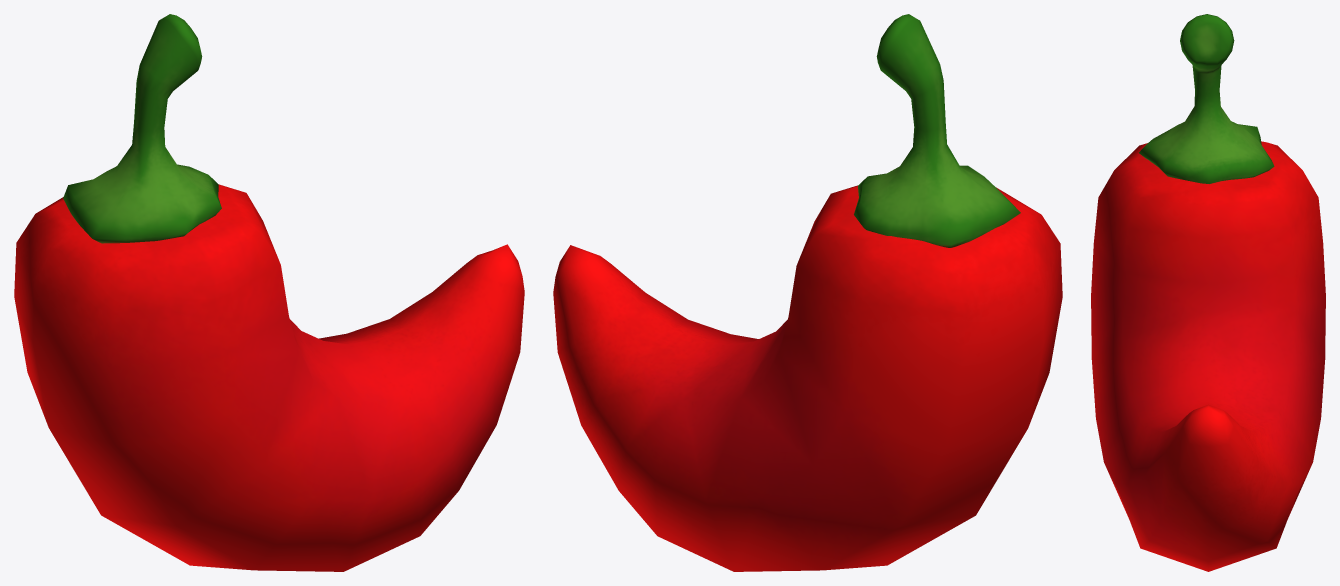
Rendered from Pepper.fbx.
The picture shows the model from 3 angles, left to right: view 1: azimuth 30°, elevation 25°; view 2: azimuth 150°, elevation 25°; view 3: azimuth 270°, elevation 25°; orthographic projection. The views are drawn at different scales.
Parts seen in each view (by area): view 1: Pepper; view 2: Pepper; view 3: Pepper.
Boxes of the visible parts, <box> form: Pepper: <box>14,14,524,571</box>; Pepper: <box>553,14,1062,571</box>; Pepper: <box>1091,14,1325,571</box>.
Size of the model in its own units: 2.06 by 2.36 by 1.04.
